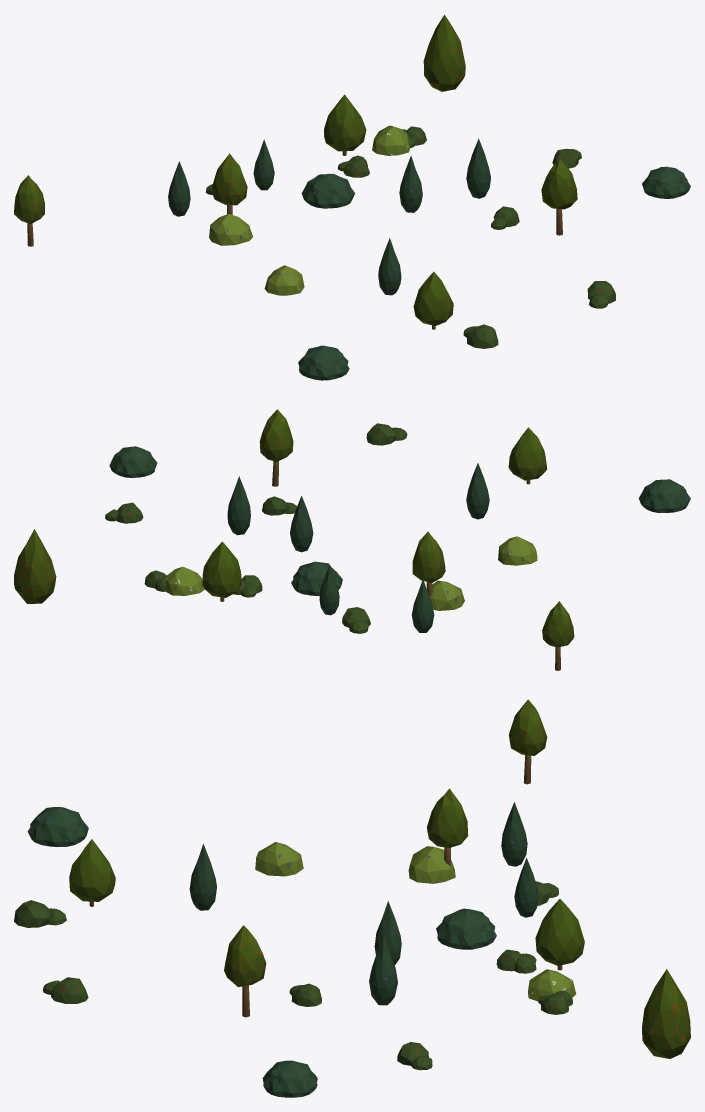
File: Bushes10.gltf
3 views of the same model, one above another, from view 1: azimuth 30°, elevation 25°; view 2: azimuth 150°, elevation 25°; view 3: azimuth 270°, elevation 25° (orthographic). The views are drawn at different scales.
Visible parts, largest first — view 1: Hollytree3 - copy.002, Hollytree2 - copy.023, Hollytree2 - copy.017, Hollytree1 - copy.007, JuniperBush1 - copy.021, JuniperBush1 - copy.004, Hollytree1 - copy.003, Hollytree1 - copy.019, JuniperBush1 - copy.008, ElderberryBush2 - copy.026, JuniperBush2 - copy.026, ElderberryBush2 - copy.016 (+7 smaller); view 2: Hollytree3 - copy.002, Hollytree2 - copy.023, Hollytree2 - copy.017, Hollytree1 - copy.007, JuniperBush1 - copy.004, Hollytree1 - copy.003, Hollytree1 - copy.019, JuniperBush1 - copy.008, JuniperBush1 - copy.021, JuniperBush2 - copy.026, ElderberryBush2 - copy.016, ElderberryBush1 - copy.004 (+10 smaller); view 3: Hollytree3 - copy.002, Hollytree2 - copy.023, Hollytree1 - copy.007, Hollytree2 - copy.017, JuniperBush1 - copy.021, JuniperBush1 - copy.004, Hollytree1 - copy.003, Hollytree1 - copy.019, JuniperBush1 - copy.008, ElderberryBush2 - copy.026, JuniperBush2 - copy.026, ElderberryBush2 - copy.016 (+11 smaller).
Part boxes in pixels (x1,y1,x2,y2): Hollytree3 - copy.002: (423,15,465,91); Hollytree2 - copy.023: (324,94,366,155); Hollytree2 - copy.017: (413,271,453,329); Hollytree1 - copy.007: (541,158,577,235); JuniperBush1 - copy.021: (301,173,354,208); JuniperBush1 - copy.004: (298,345,349,380); Hollytree1 - copy.003: (212,153,247,214); Hollytree1 - copy.019: (14,175,44,246); JuniperBush1 - copy.008: (642,166,690,198); ElderberryBush2 - copy.026: (209,214,252,245); JuniperBush2 - copy.026: (466,138,490,198); ElderberryBush2 - copy.016: (264,265,304,295); Hollytree3 - copy.002: (14,529,56,603); Hollytree2 - copy.023: (202,541,241,601); Hollytree2 - copy.017: (508,427,547,484); Hollytree1 - copy.007: (259,409,293,486); JuniperBush1 - copy.004: (638,479,690,512); Hollytree1 - copy.003: (412,531,445,596); Hollytree1 - copy.019: (542,601,574,670); JuniperBush1 - copy.008: (109,446,157,477); JuniperBush1 - copy.021: (291,561,342,595); JuniperBush2 - copy.026: (227,476,250,535); ElderberryBush2 - copy.016: (498,536,537,565); ElderberryBush1 - copy.004: (165,566,204,595); Hollytree3 - copy.002: (642,969,690,1058); Hollytree2 - copy.023: (535,899,584,970); Hollytree1 - copy.007: (224,925,266,1017); Hollytree2 - copy.017: (69,839,115,906); JuniperBush1 - copy.021: (436,908,496,949); JuniperBush1 - copy.004: (27,807,88,846); Hollytree1 - copy.003: (426,788,468,865); Hollytree1 - copy.019: (509,699,547,784); JuniperBush1 - copy.008: (262,1060,317,1097); ElderberryBush2 - copy.026: (408,846,455,883); JuniperBush2 - copy.026: (369,935,397,1005); ElderberryBush2 - copy.016: (255,842,303,876).
Bounding box in the file's own units: 32.33 × 4.26 × 28.46.
Materials: 10 (10 with a texture image).
